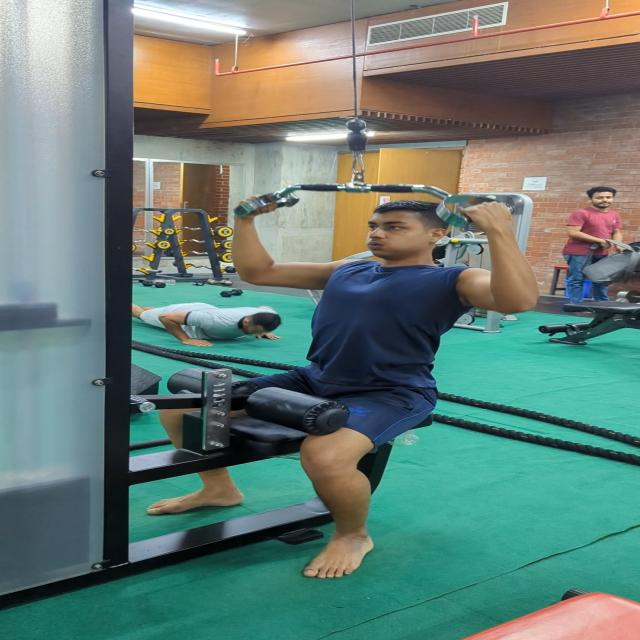Normal_LatPulldown: (134, 180, 546, 588)
